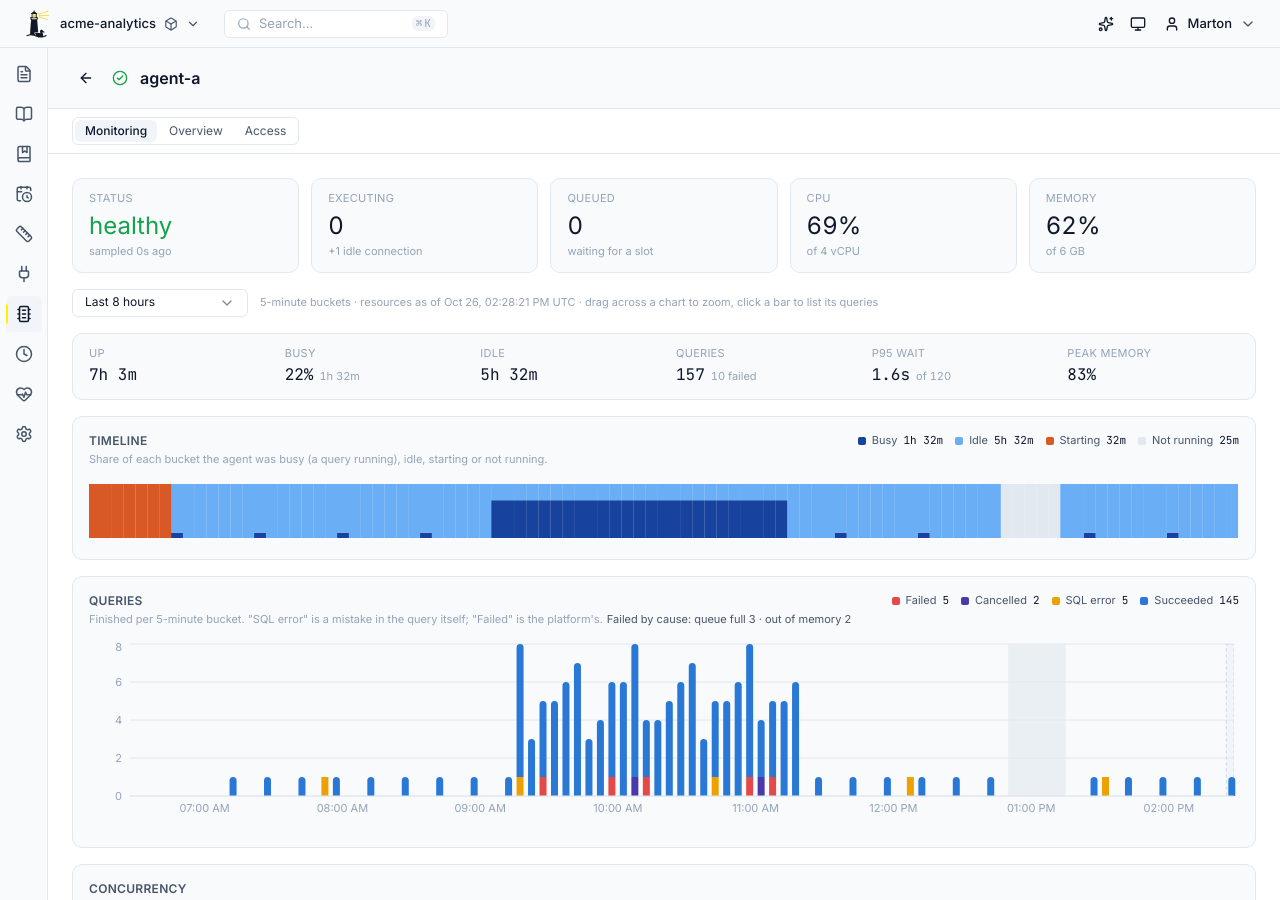
AgentDetailPage › overview tab › warns about a deprecated runtime and names its upstream end of support
Click the tab "Overview": (196, 131) [159, 120, 233, 142]
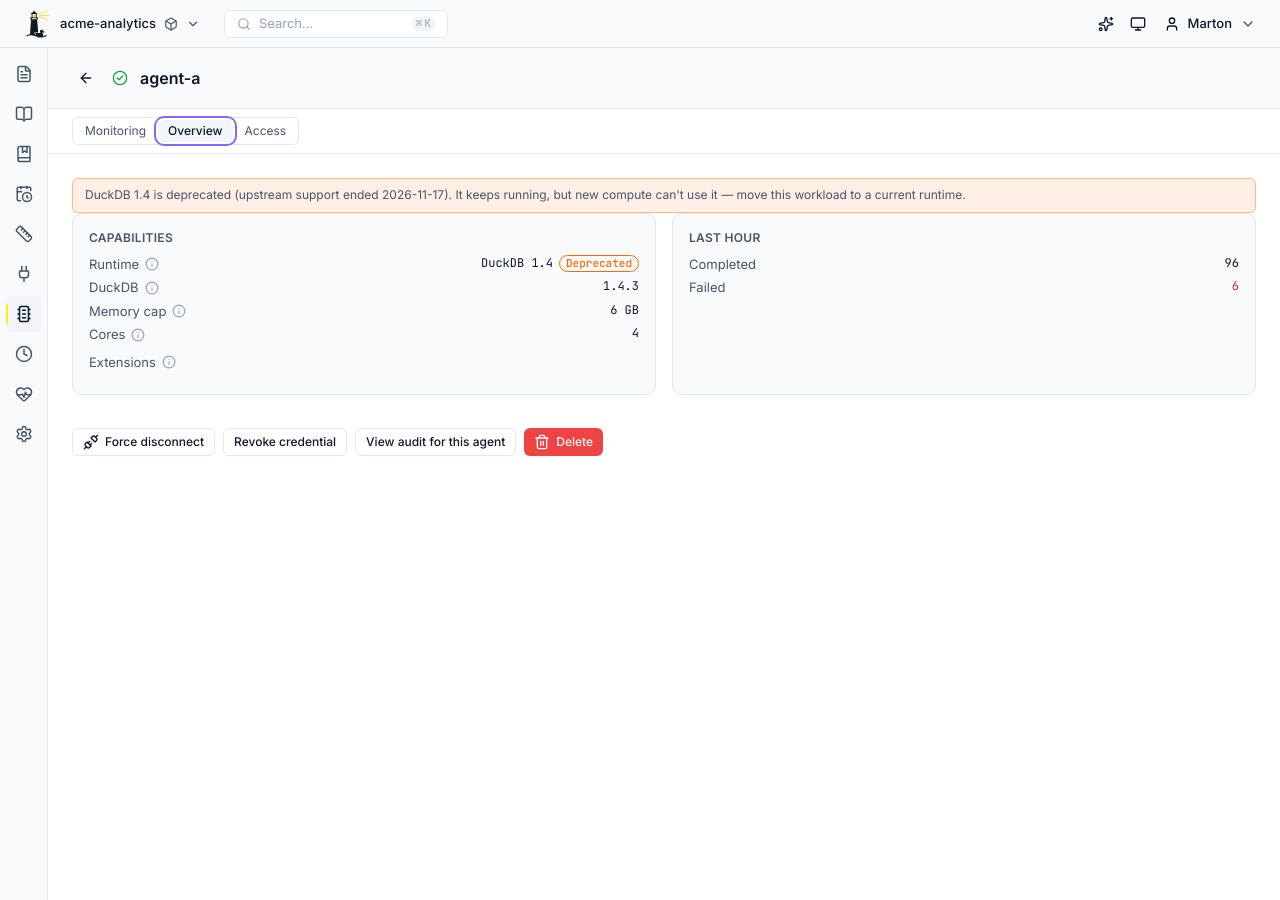
Check: the text "DuckDB 1.4 is deprecated (upstream support ended 2026-11-17)" is shown, box [72, 178, 1256, 213]
